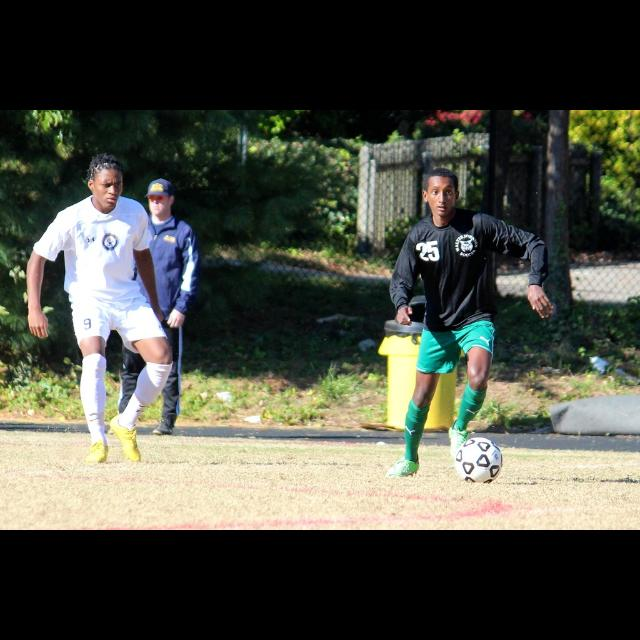Football: (452, 436, 502, 484)
